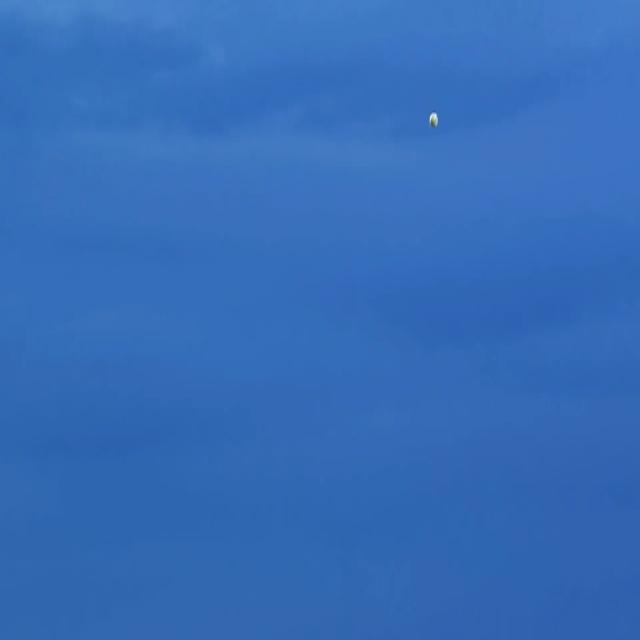ball: (425, 107, 441, 134)
